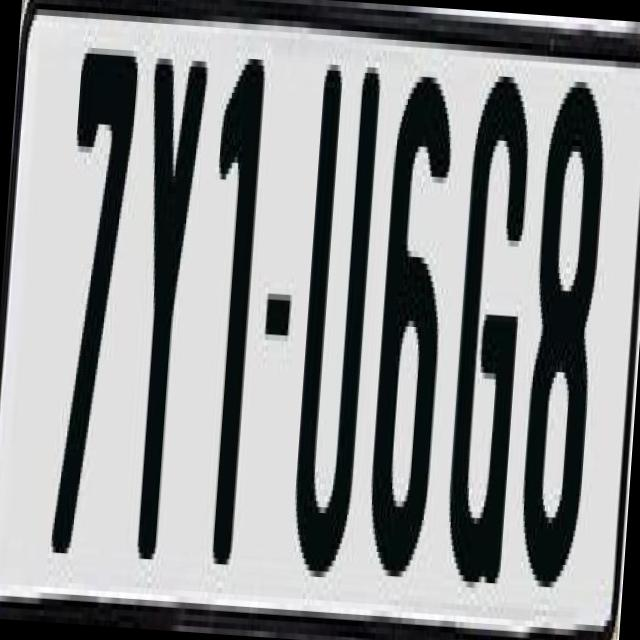1: (187, 45, 266, 565)
6: (359, 63, 461, 602)
7: (44, 46, 140, 585)
8: (513, 62, 606, 570)
G: (440, 57, 542, 572)
U: (286, 63, 384, 602)
Y: (115, 46, 204, 566)
